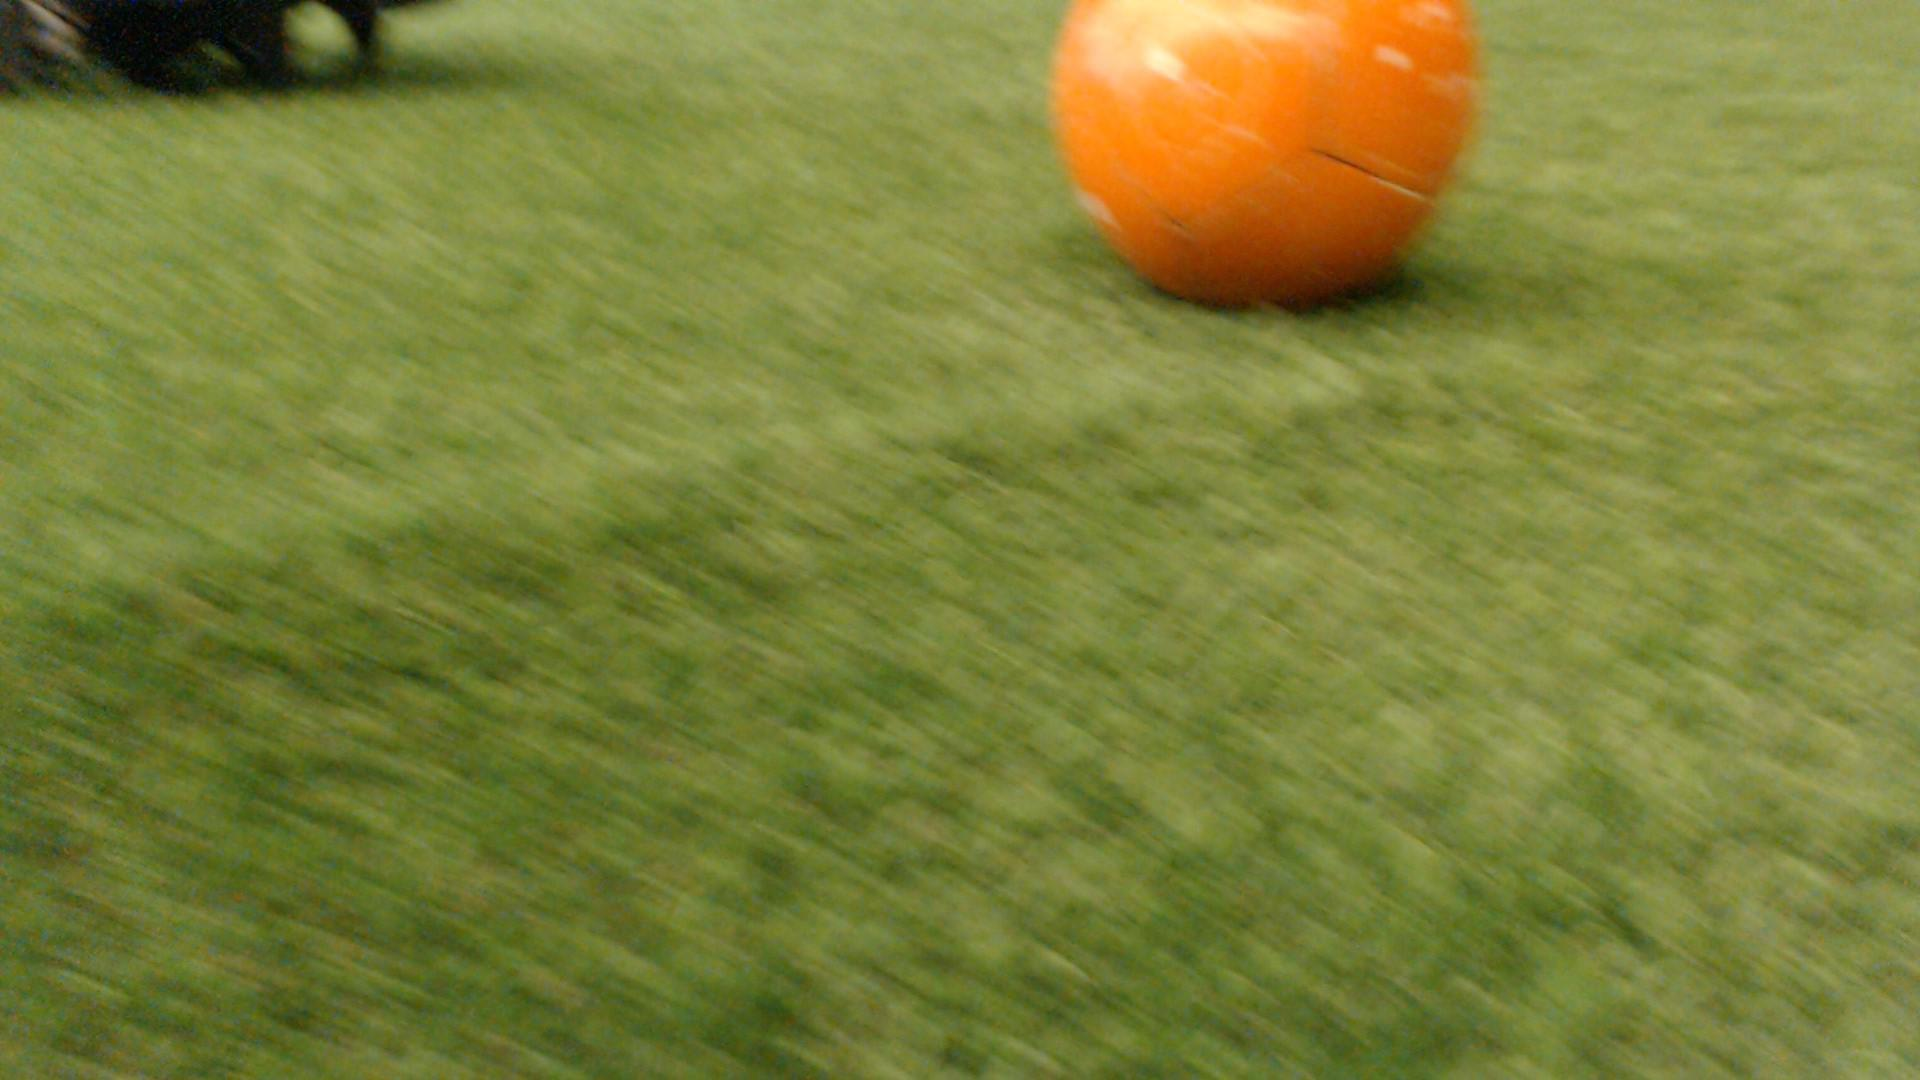bola: (1027, 0, 1511, 320)
